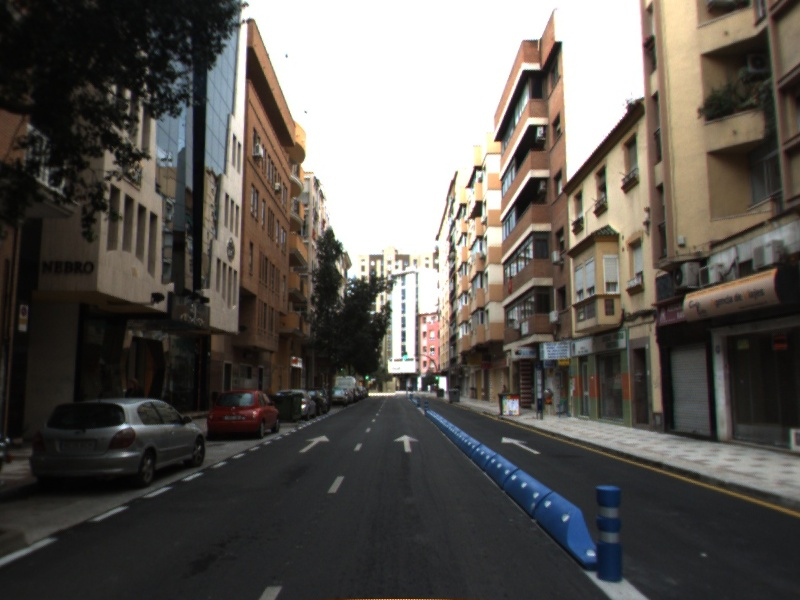STRAIGHT: (500, 435, 543, 456), (297, 434, 331, 454), (392, 433, 421, 454)
